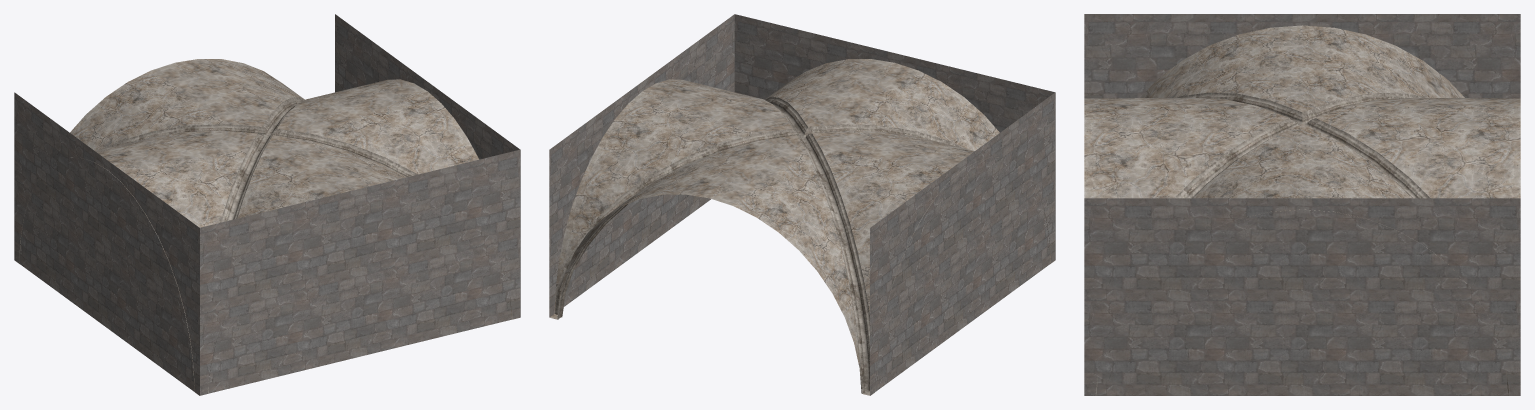
The picture shows the model from 3 angles, left to right: view 1: azimuth 30°, elevation 25°; view 2: azimuth 150°, elevation 25°; view 3: azimuth 270°, elevation 25°; orthographic projection. The views are drawn at different scales.
Parts seen in each view (by area): view 1: SM_RoomCeiling_3Walls_LOD0; view 2: SM_RoomCeiling_3Walls_LOD0; view 3: SM_RoomCeiling_3Walls_LOD0.
Boxes of the visible parts, left/top/right/bottom form: SM_RoomCeiling_3Walls_LOD0: left=14, top=14, right=520, bottom=395; SM_RoomCeiling_3Walls_LOD0: left=549, top=14, right=1055, bottom=395; SM_RoomCeiling_3Walls_LOD0: left=1084, top=14, right=1520, bottom=395.
Size of the model in its own units: 6 by 3 by 6.
Materials: 3 (3 with a texture image).
